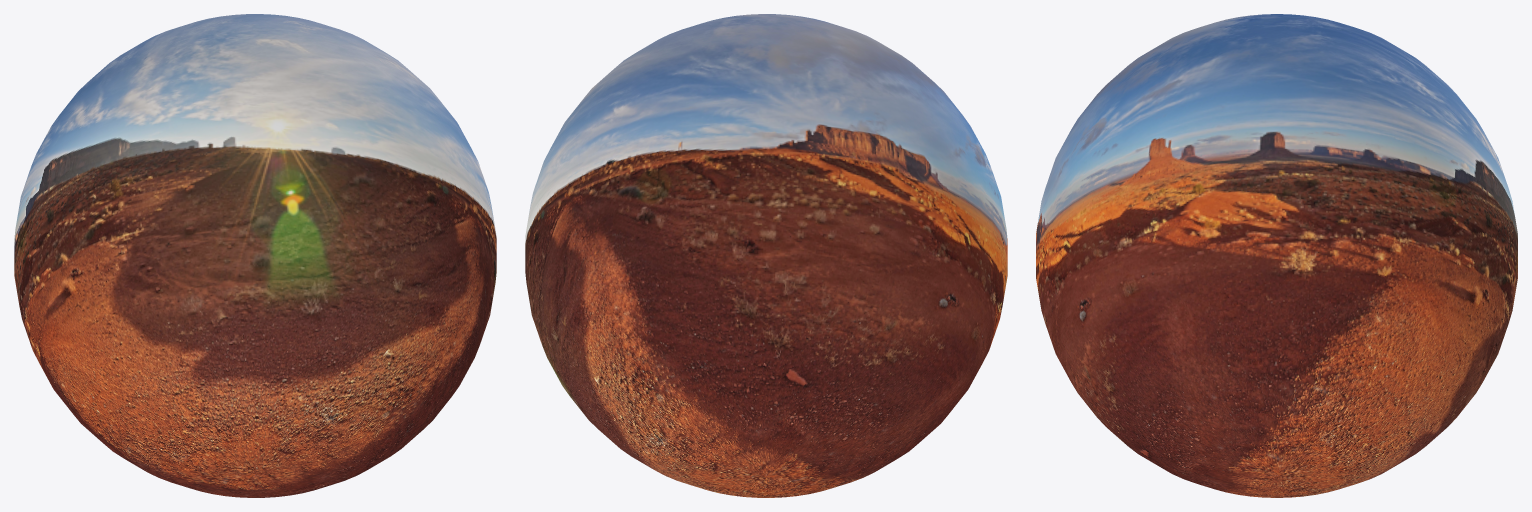
Rendered from sky.glb.
3 views of the same model, side by side, from view 1: azimuth 30°, elevation 25°; view 2: azimuth 150°, elevation 25°; view 3: azimuth 270°, elevation 25° (orthographic).
Parts seen in each view (by area): view 1: PanoSphere; view 2: PanoSphere; view 3: PanoSphere.
Boxes of the visible parts, x1,y1,x2,y2 form: PanoSphere: (14,14,496,497); PanoSphere: (525,14,1007,497); PanoSphere: (1036,14,1517,497).
Size of the model in its own units: 9.97 by 10 by 9.95.
Materials: 1 (1 with a texture image).
